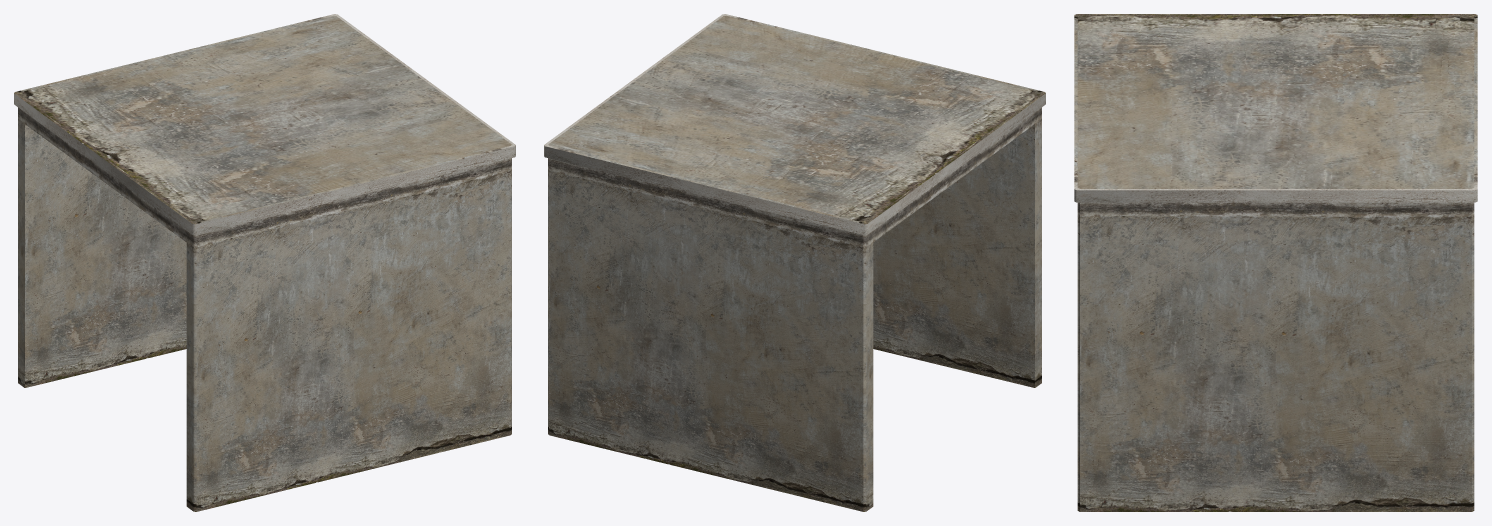
Rendered from StuccoShedB.FBX.
3 views of the same model, side by side, from view 1: azimuth 30°, elevation 25°; view 2: azimuth 150°, elevation 25°; view 3: azimuth 270°, elevation 25° (orthographic). The views are drawn at different scales.
Parts seen in each view (by area): view 1: StuccoShedB; view 2: StuccoShedB; view 3: StuccoShedB.
Part boxes in pixels (<box>): StuccoShedB: <box>14,14,515,511</box>; StuccoShedB: <box>544,14,1045,511</box>; StuccoShedB: <box>1074,14,1477,511</box>.
Bounding box in the file's own units: 356 × 304 × 344.
